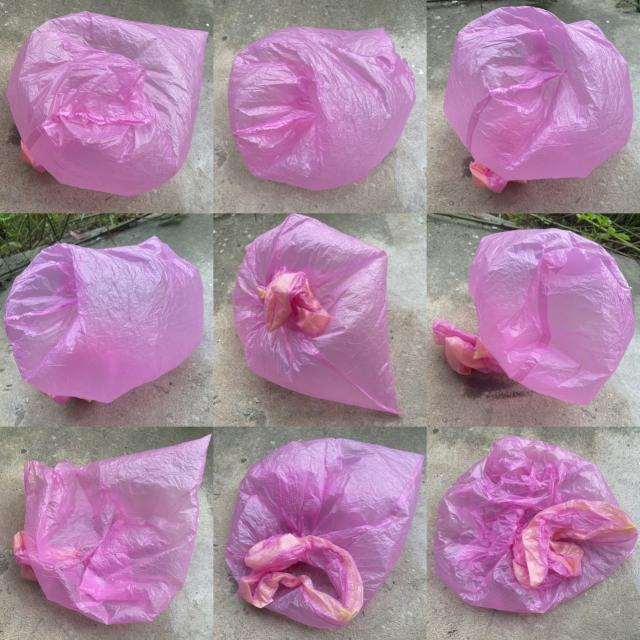Single-layer Plastic: (12, 435, 211, 624), (225, 439, 424, 628), (8, 11, 208, 196), (435, 436, 639, 613), (432, 229, 634, 404), (444, 6, 632, 192), (232, 214, 400, 414), (5, 236, 204, 402), (229, 26, 415, 190)
